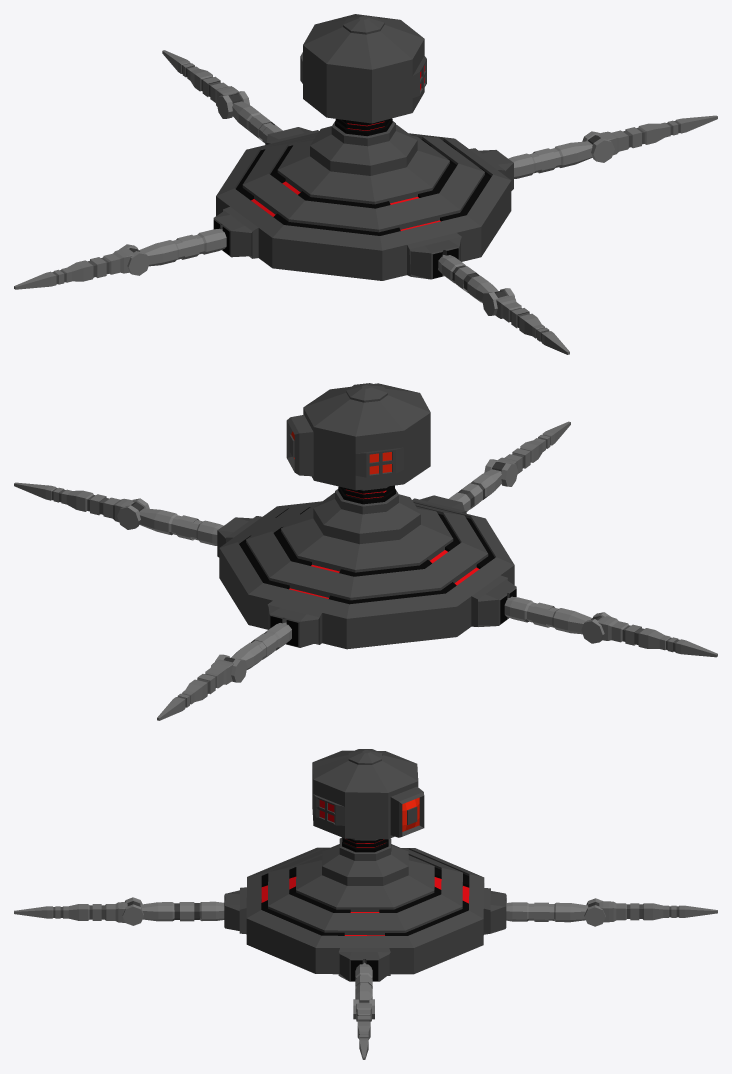
The model's file is Keys.fbx.
The picture shows the model from 3 angles, top to bottom: view 1: azimuth 30°, elevation 25°; view 2: azimuth 150°, elevation 25°; view 3: azimuth 270°, elevation 25°; orthographic projection. The views are drawn at different scales.
Visible parts, largest first — view 1: Cylinder, Cube, Cube.001, Cube.005, Cube.004, Cube.003, Cube.007, Cube.002, Cube.006; view 2: Cylinder, Cube, Cube.001, Cube.005, Cube.004, Cube.002, Cube.006, Cube.003, Cube.007; view 3: Cylinder, Cube.003, Cube.002, Cube.006, Cube.007, Cube, Cube.004.
Part boxes in pixels (left/top/right/bottom): Cylinder: left=213, top=14, right=513, bottom=280; Cube: left=508, top=131, right=614, bottom=178; Cube.001: left=119, top=228, right=226, bottom=275; Cube.005: left=14, top=248, right=133, bottom=289; Cube.004: left=598, top=115, right=717, bottom=155; Cube.003: left=438, top=255, right=515, bottom=315; Cube.007: left=495, top=295, right=569, bottom=354; Cube.002: left=216, top=91, right=282, bottom=143; Cube.006: left=162, top=50, right=238, bottom=106; Cylinder: left=217, top=383, right=516, bottom=649; Cube: left=117, top=498, right=223, bottom=545; Cube.001: left=504, top=596, right=610, bottom=643; Cube.005: left=598, top=616, right=717, bottom=657; Cube.004: left=14, top=482, right=133, bottom=522; Cube.002: left=215, top=622, right=291, bottom=682; Cube.006: left=157, top=659, right=233, bottom=720; Cube.003: left=449, top=459, right=517, bottom=511; Cube.007: left=498, top=421, right=570, bottom=474; Cylinder: left=224, top=749, right=506, bottom=981; Cube.003: left=122, top=897, right=224, bottom=925; Cube.002: left=506, top=898, right=605, bottom=926; Cube.006: left=599, top=901, right=717, bottom=922; Cube.007: left=14, top=902, right=127, bottom=922; Cube: left=353, top=962, right=374, bottom=1019; Cube.004: left=356, top=1002, right=371, bottom=1059.
Bounding box in the file's own units: 1495 × 454 × 1505.
